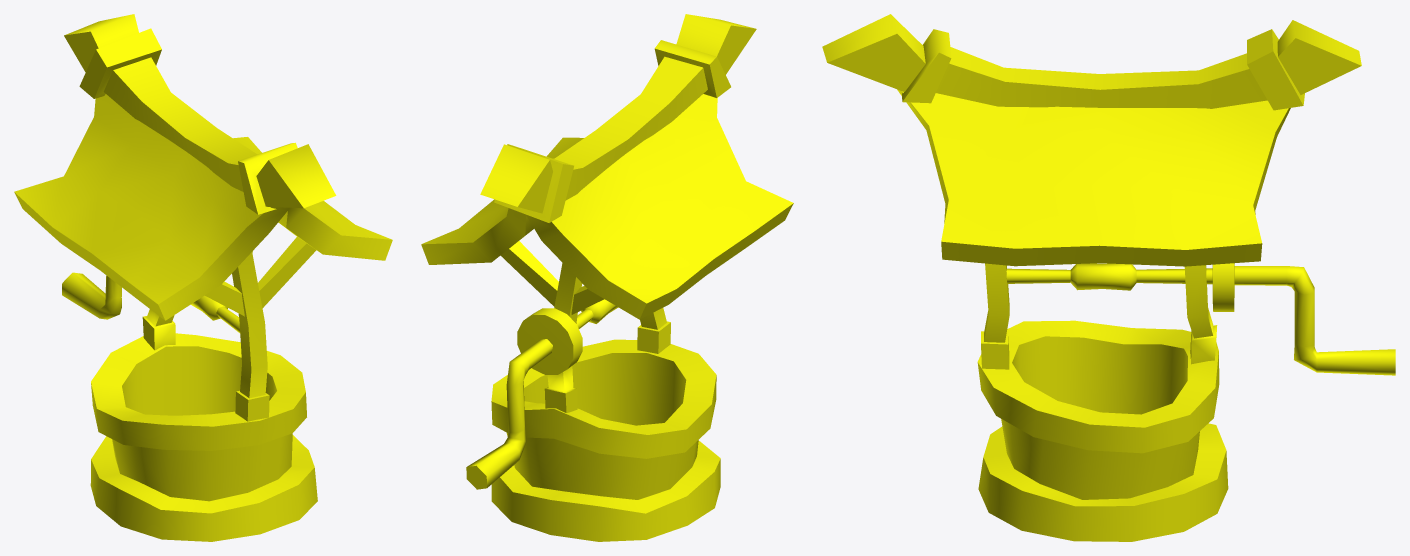
File: SM_PROP_well.glb
3 renders of one model, left to right at view 1: azimuth 30°, elevation 25°; view 2: azimuth 150°, elevation 25°; view 3: azimuth 270°, elevation 25°, orthographic. The views are drawn at different scales.
Visible parts, largest first — view 1: SM_PROP_well, SM_PROP_well_handle; view 2: SM_PROP_well, SM_PROP_well_handle; view 3: SM_PROP_well, SM_PROP_well_handle.
Part boxes in pixels (left/top/right/bottom): SM_PROP_well: left=14, top=14, right=392, bottom=541; SM_PROP_well_handle: left=62, top=272, right=240, bottom=333; SM_PROP_well: left=421, top=14, right=793, bottom=541; SM_PROP_well_handle: left=466, top=299, right=618, bottom=489; SM_PROP_well: left=822, top=14, right=1361, bottom=541; SM_PROP_well_handle: left=1006, top=263, right=1395, bottom=375.
Bounding box in the file's own units: 2.5 × 4.24 × 4.76.
6 materials, 6 textured.
